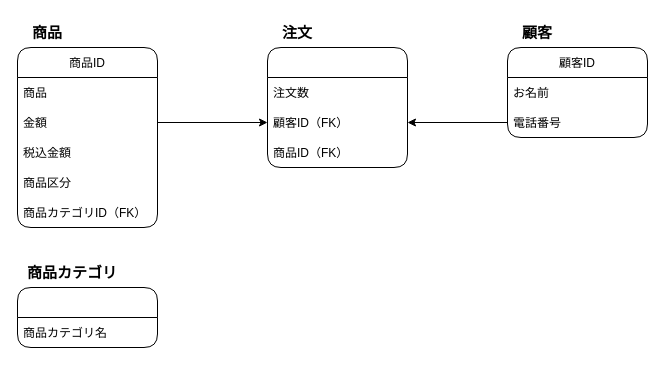
Image size: 665x365. Some labels were removed from this diagram. Here are the shapes that lost their labels. From the top down, the box of each, then its label:
(266, 46, 408, 168): 注文ID
(16, 286, 158, 348): 商品カテゴリID
